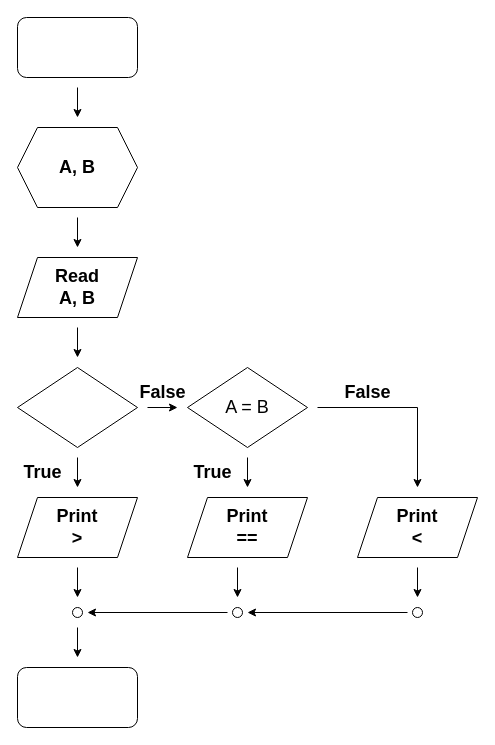
This 495x745 diagram has some shape labels left out. The centre of each missing label's shape, as x and y in pixels:
"A > B" belongs at [77,407].
"Start" belongs at [77,47].
"Stop" belongs at [77,697].
